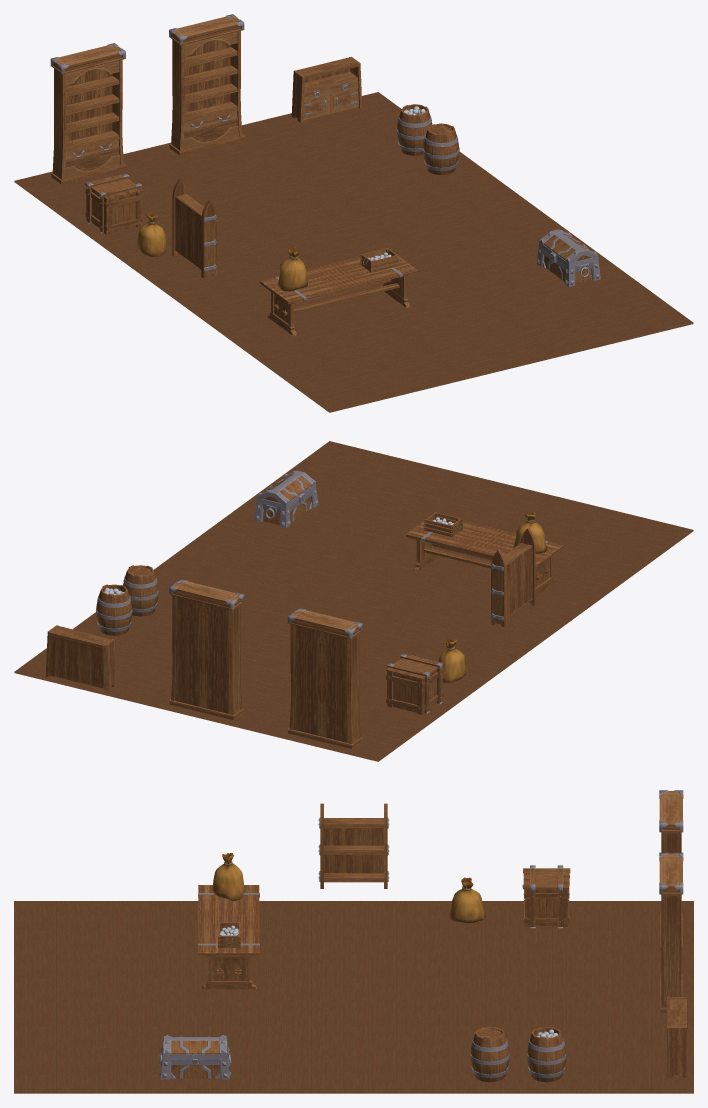
The model's file is shop_general_in.gltf.
3 renders of one model, top to bottom at view 1: azimuth 30°, elevation 25°; view 2: azimuth 150°, elevation 25°; view 3: azimuth 270°, elevation 25°, orthographic. The views are drawn at different scales.
Parts seen in each view (by area): view 1: shop_general_in; view 2: shop_general_in; view 3: shop_general_in.
Part boxes in pixels (x1=…): shop_general_in: x1=14, y1=14, x2=693, y2=412; shop_general_in: x1=14, y1=441, x2=693, y2=761; shop_general_in: x1=14, y1=790, x2=693, y2=1093.
Bounding box in the file's own units: 8 × 2.58 × 12.
Materials: 5 (5 with a texture image).
